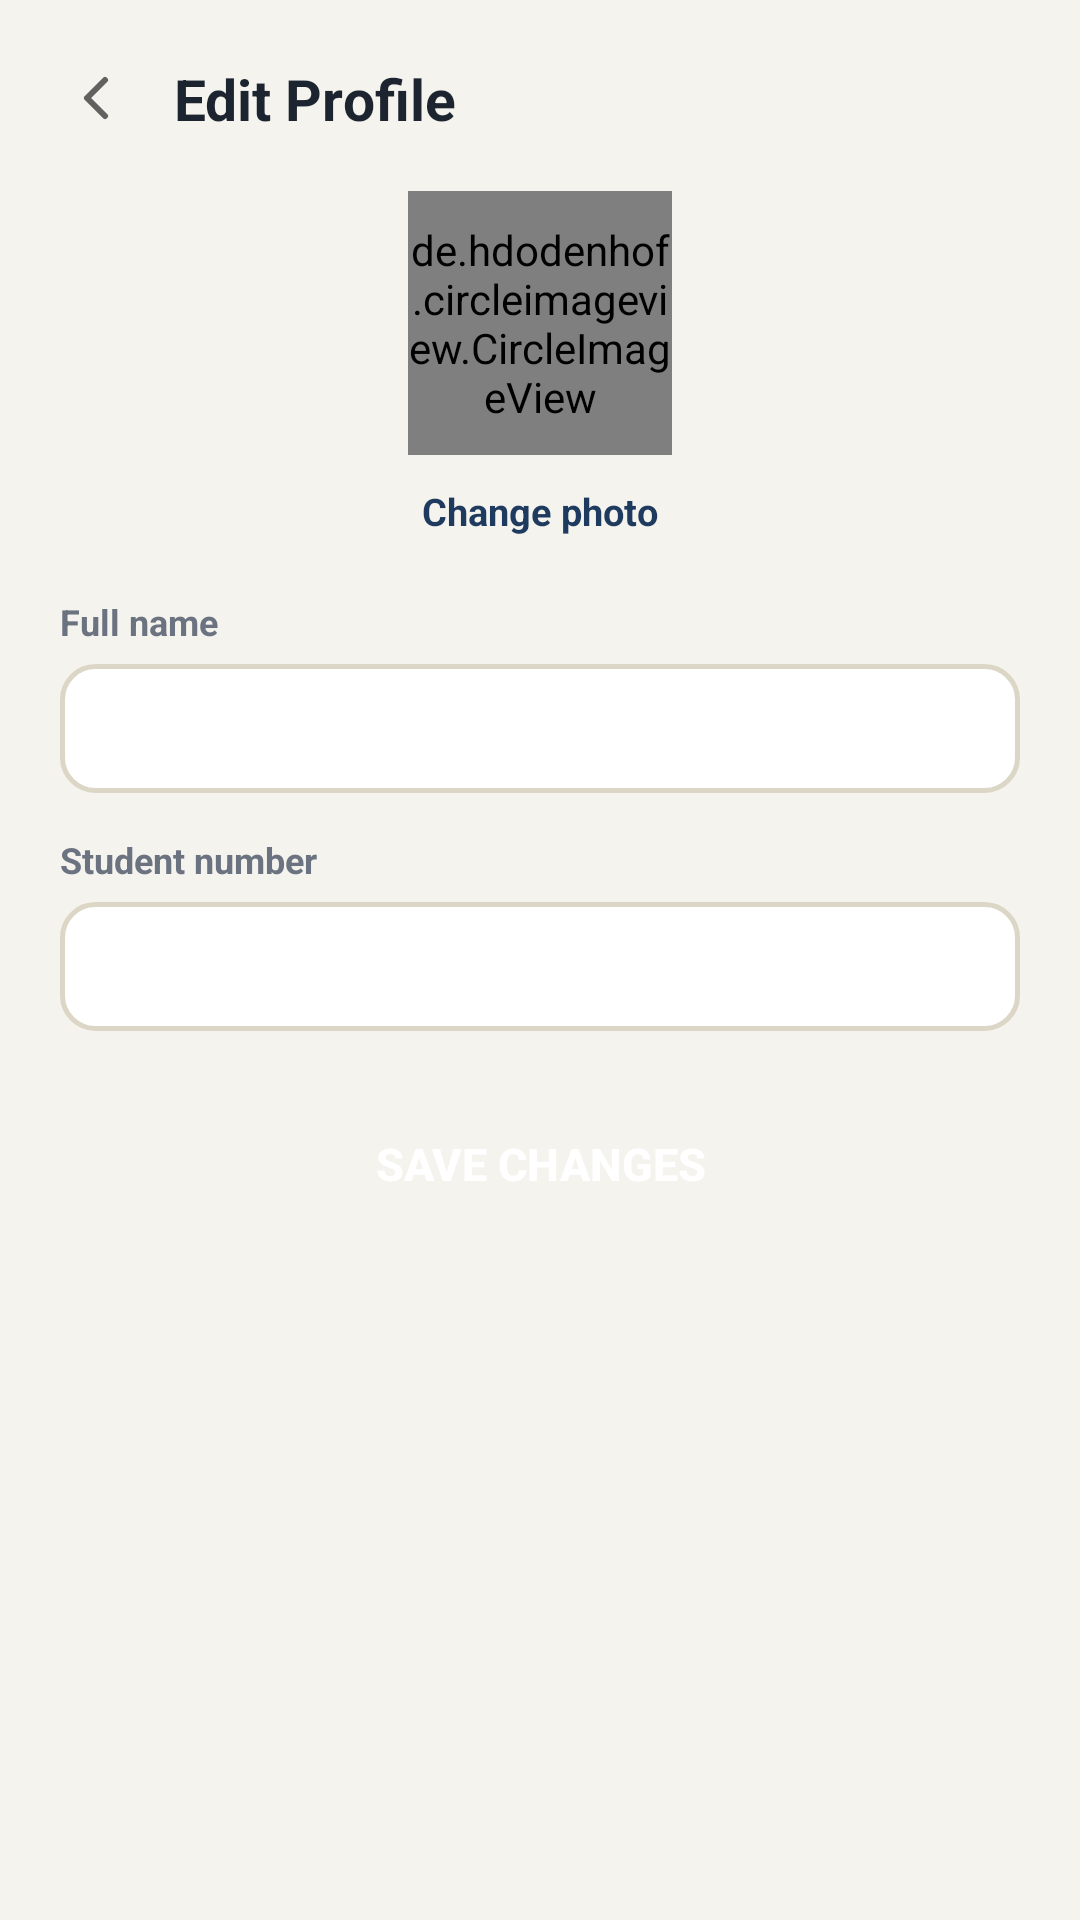

Icons on this 1080 x 1920 Android screen, each with the point to tap as point (x, y):
back: point (96, 98)
